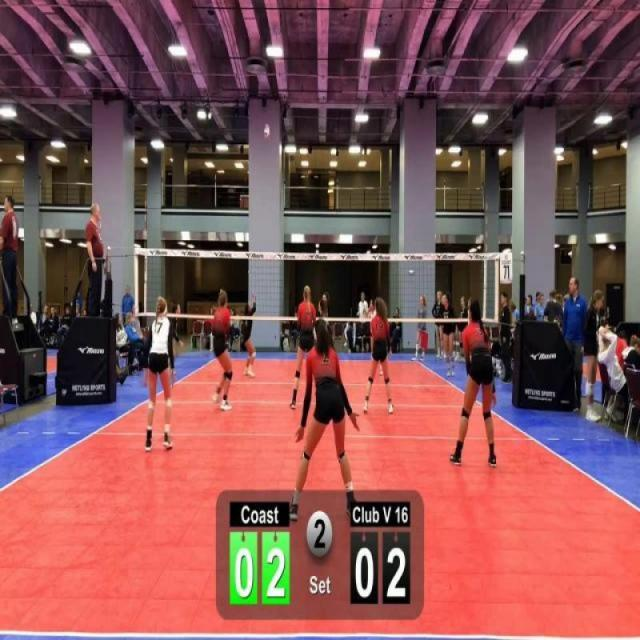volleyball: (262, 120, 272, 142)
